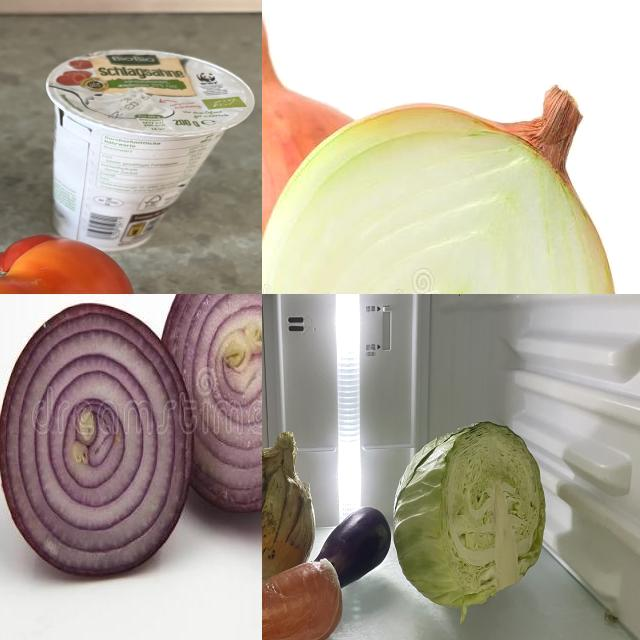cabbage: (393, 420, 547, 614)
carrot: (263, 558, 341, 640)
eggplant: (317, 505, 393, 598)
onion: (263, 83, 624, 295), (1, 301, 194, 575), (263, 16, 404, 295), (158, 295, 263, 519), (263, 431, 317, 588)
